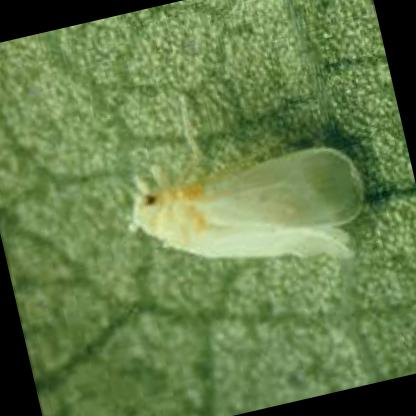whitefly: (135, 136, 366, 262)
